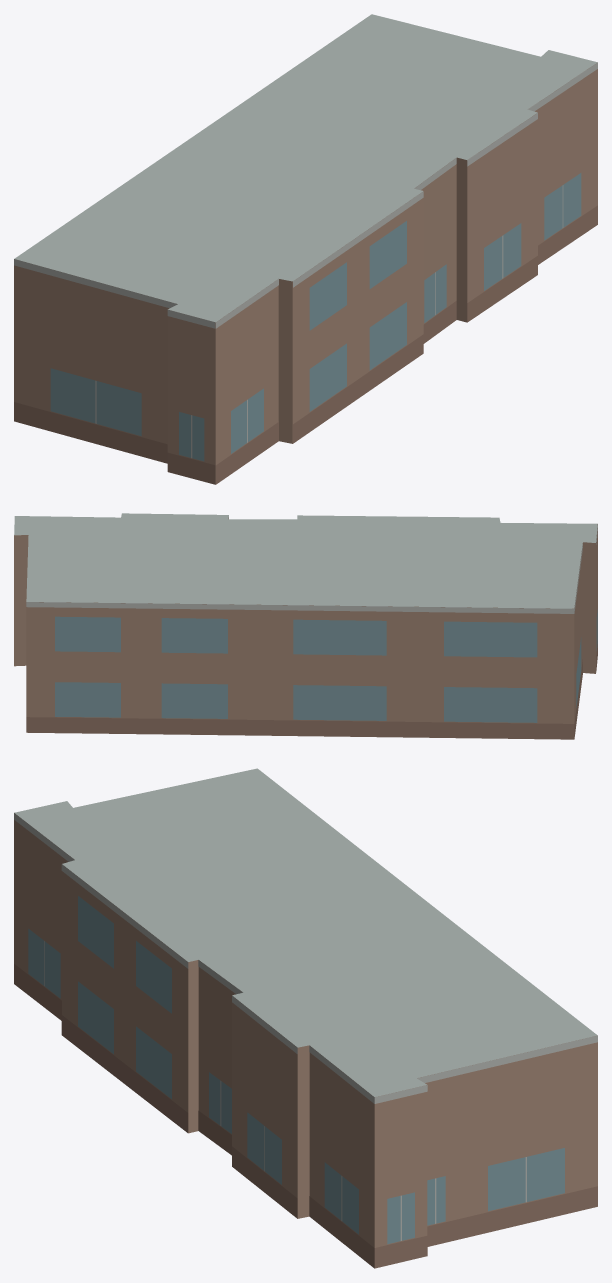
The model's file is survey-upis-32751006.glb.
3 views of the same model, one above another, from view 1: azimuth 30°, elevation 25°; view 2: azimuth 150°, elevation 25°; view 3: azimuth 270°, elevation 25° (orthographic). The views are drawn at different scales.
Visible parts, largest first — view 1: survey-upis-32751006.tmp; view 2: survey-upis-32751006.tmp; view 3: survey-upis-32751006.tmp.
Boxes of the visible parts, x1,y1,x2,y2 form: survey-upis-32751006.tmp: (14, 14, 597, 484); survey-upis-32751006.tmp: (14, 513, 597, 739); survey-upis-32751006.tmp: (14, 768, 597, 1268).
Bounding box in the file's own units: 25.13 × 6.1 × 18.85.
